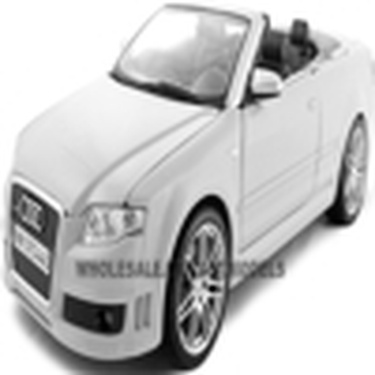car: (7, 8, 375, 350)
